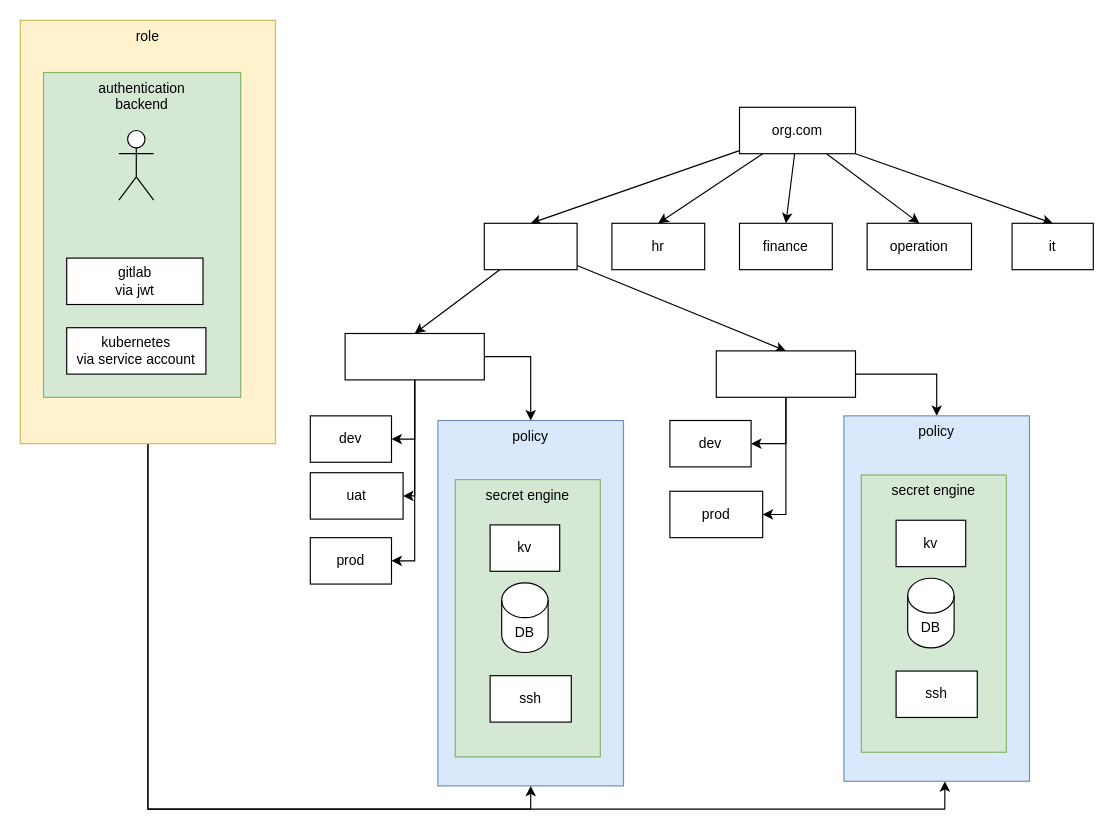
Image size: 1114x839. Some labels were removed from this diagram. Here are the shapes that lost their labels. From the top down, the centre of each, then its label:
pixel 136 164: User via GSuite (OIDC)
pixel 530 246: marketing
pixel 414 356: marketing-app1
pixel 785 373: marketing-app2
